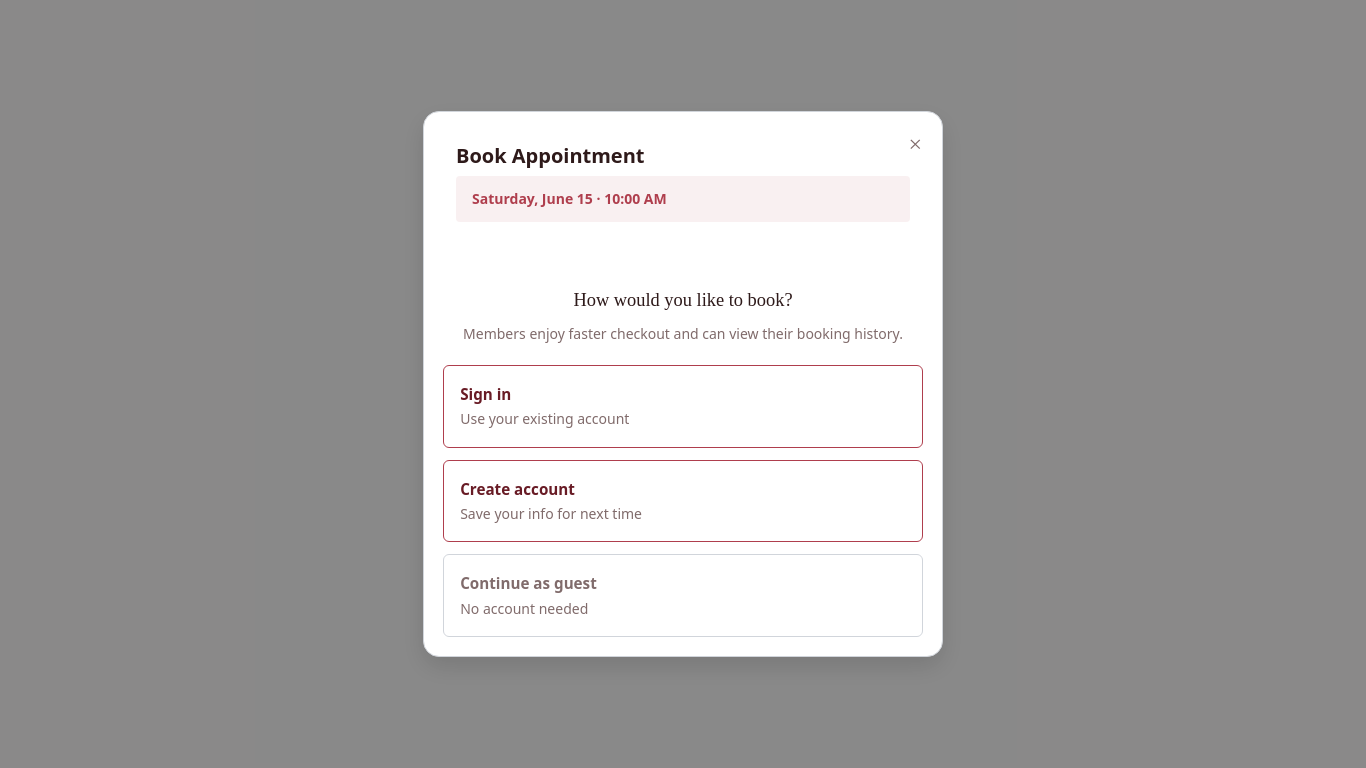
Test: BookingModal — sticky layout structure › renders the action buttons inside booking-modal__footer
Click the button "Continue as guest No account needed". click: (528, 583)
box: [443,554,923,637]
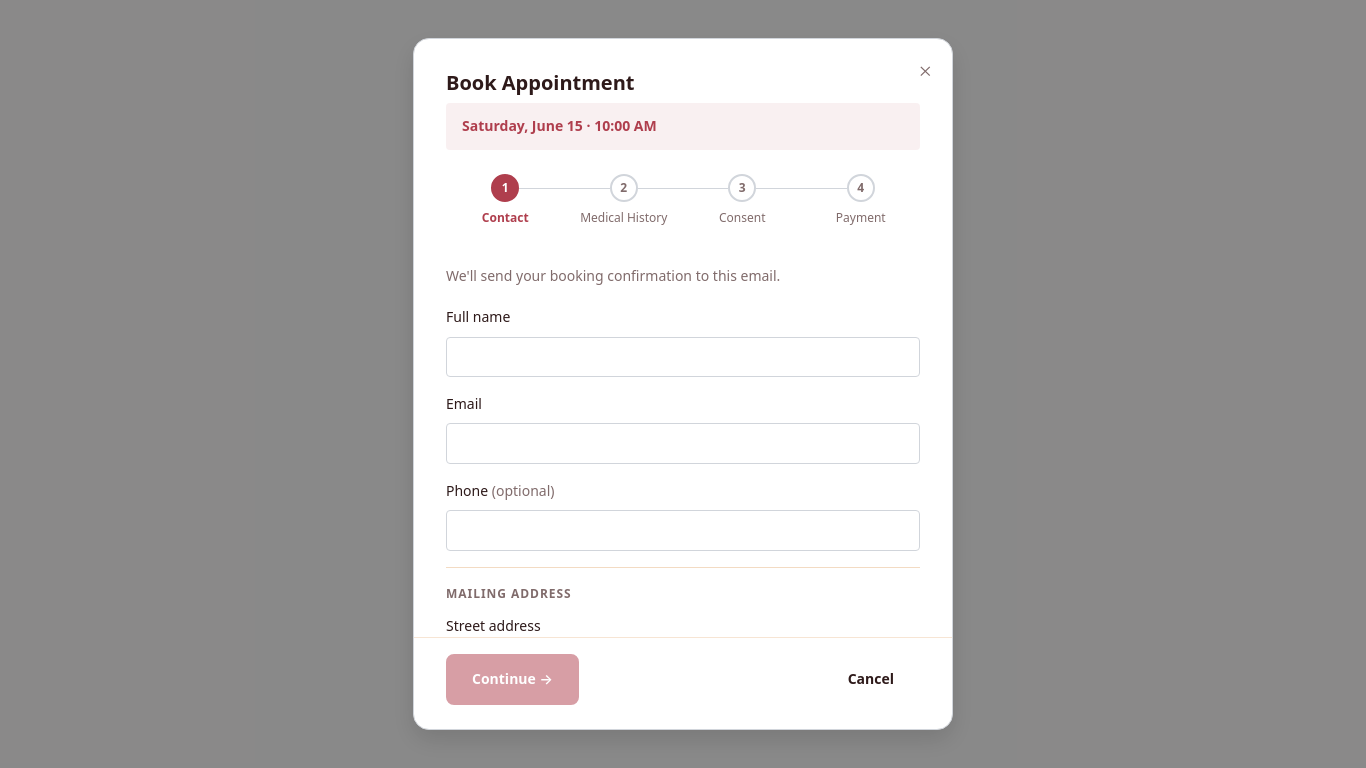
Expected: the field labelled "Full name" is shown, [446,337,920,377]
Expected: the element with class "booking-modal__footer" is shown, [414,637,952,729]
Expected: the button "Continue →" is shown, [446,654,579,705]
